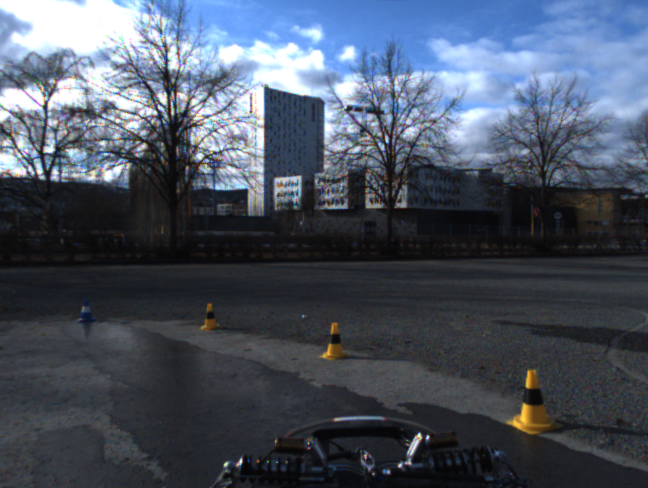cone-small-blue: (75, 298, 96, 323)
cone-small-yellow: (505, 368, 565, 435), (318, 322, 351, 361), (200, 302, 221, 331)
